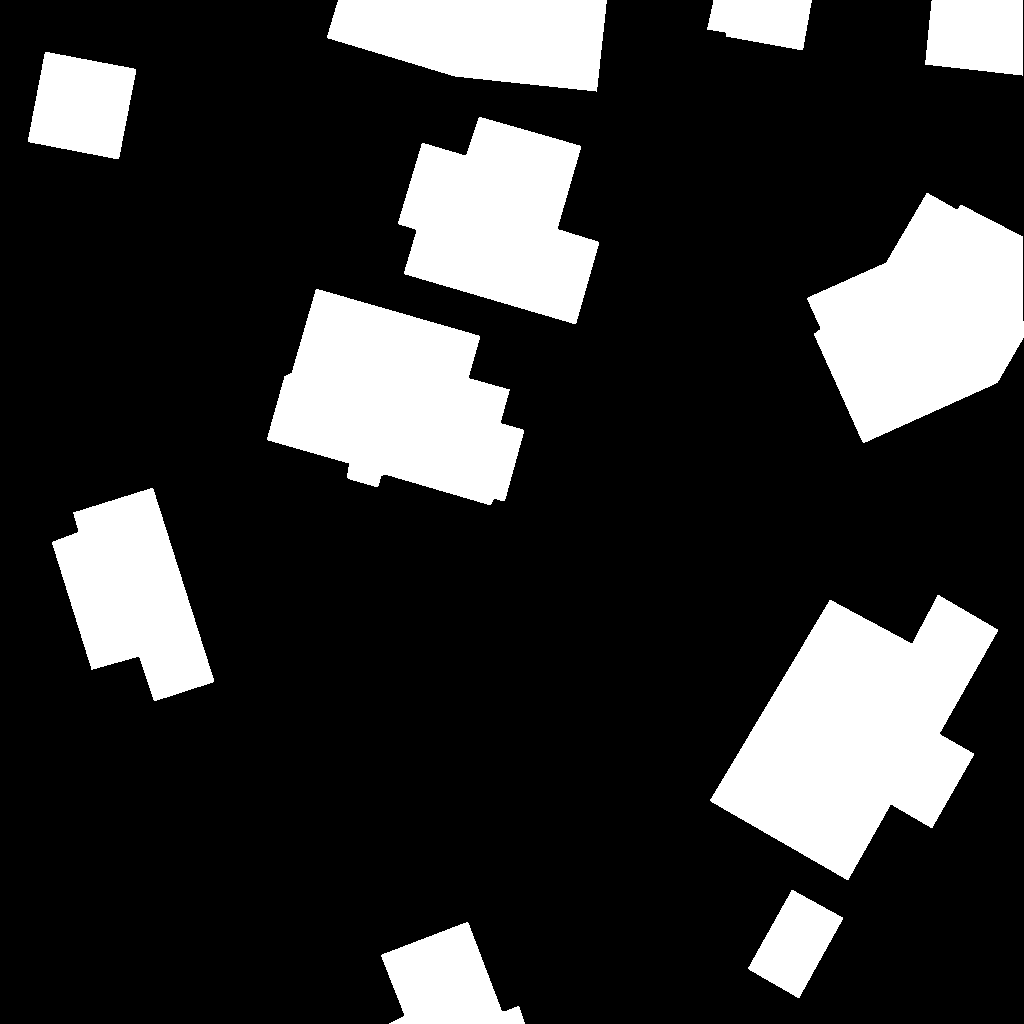building: (710, 595, 999, 881), (267, 289, 525, 506), (807, 193, 1024, 444), (398, 117, 600, 325), (52, 488, 215, 702), (327, 0, 608, 92), (381, 922, 526, 1024), (28, 52, 137, 160), (748, 890, 844, 999), (925, 0, 1024, 76), (707, 0, 813, 51)
